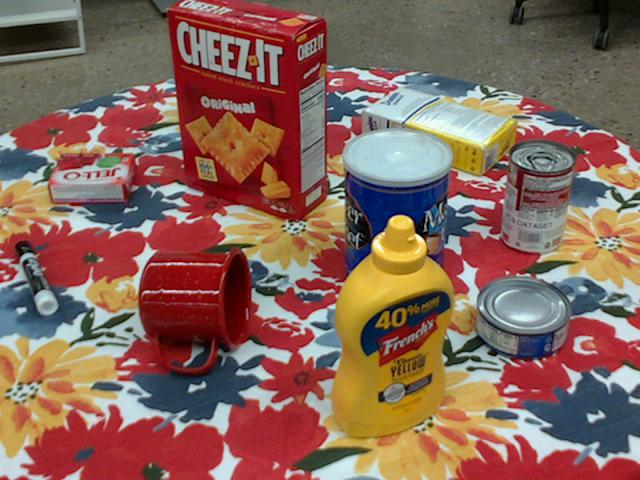cracker_box: (168, 0, 329, 216)
gelatin_box: (48, 153, 136, 203)
large_marker: (14, 239, 56, 314)
master_chef_can: (343, 128, 452, 304)
mug: (138, 248, 250, 373)
mustard_bottle: (331, 214, 453, 437)
potted_meat_can: (175, 53, 257, 135)
sugar_box: (362, 85, 519, 177)
tomato_soup_can: (501, 139, 576, 254)
tuna_fish_can: (474, 277, 571, 361)
